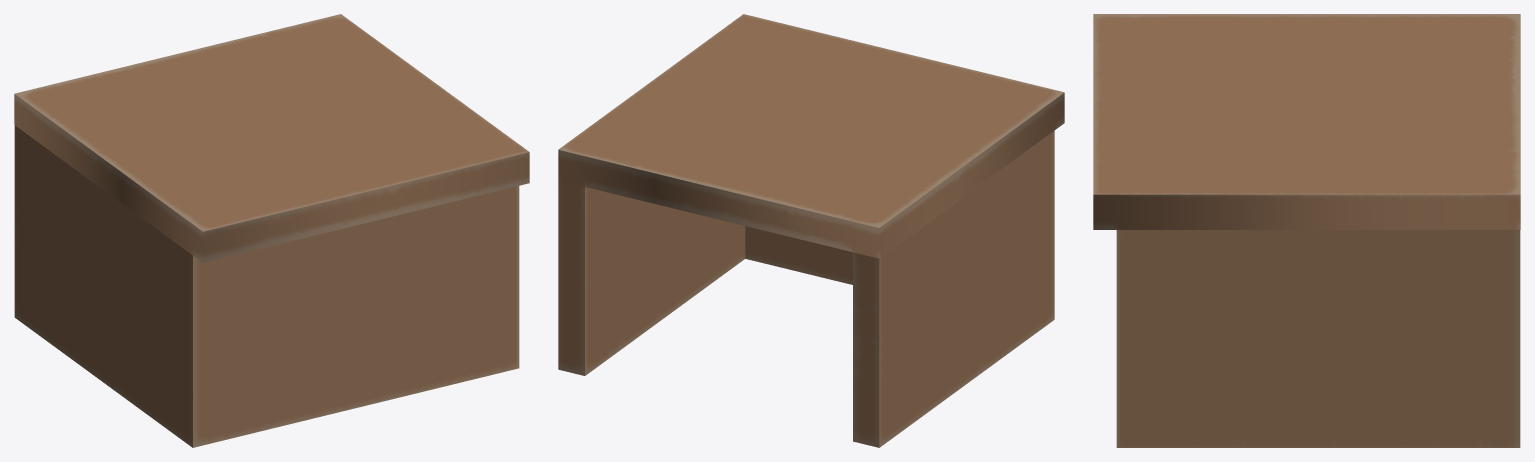
File: table g.fbx
3 views of the same model, side by side, from view 1: azimuth 30°, elevation 25°; view 2: azimuth 150°, elevation 25°; view 3: azimuth 270°, elevation 25° (orthographic). The views are drawn at different scales.
Parts seen in each view (by area): view 1: table; view 2: table; view 3: table.
Boxes of the visible parts, box(x1,y1,x2,y2) form: table: box(14, 14, 529, 447); table: box(558, 14, 1064, 447); table: box(1093, 14, 1520, 447).
Bounding box in the file's own units: 200 × 131 × 200.
1 material, 1 textured.
